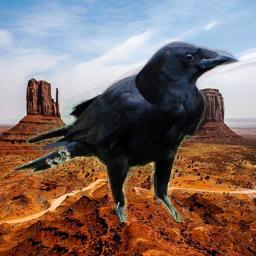Crow: (12, 41, 242, 222)
